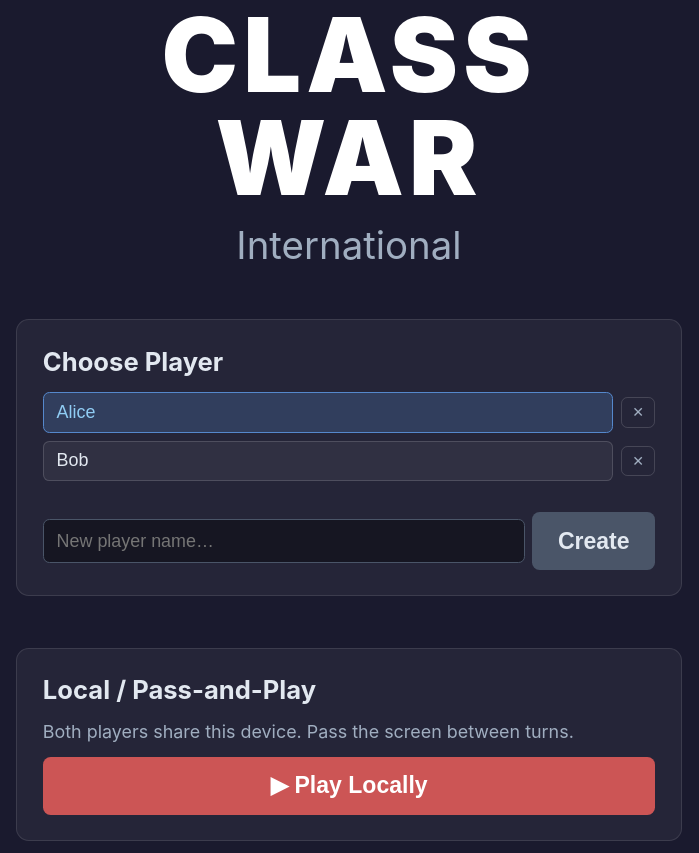
Test: SetupScreen › deleting the active player selects the next profile
Click the button named "Delete player Alice" at (638, 412), box [621,397,655,428]
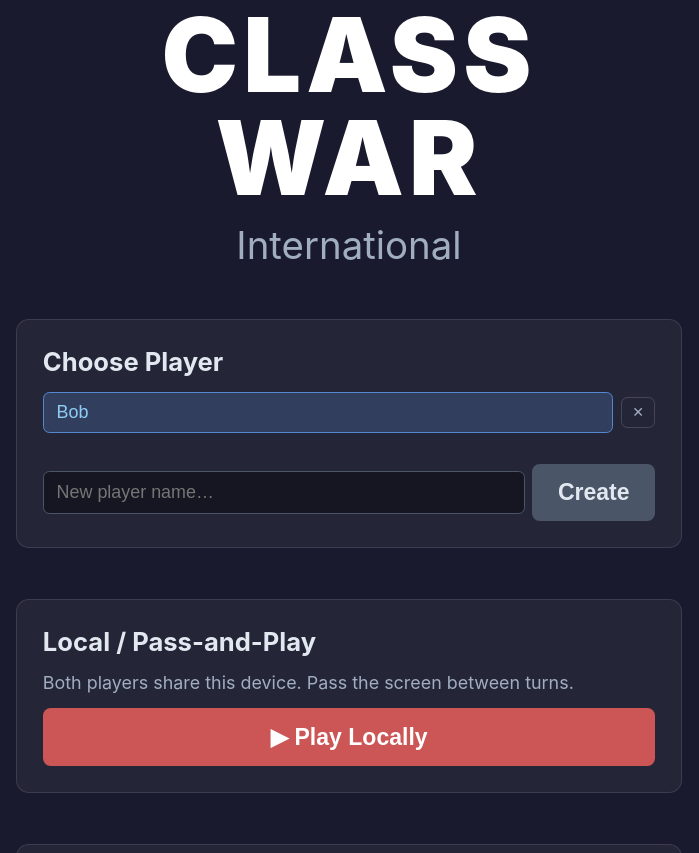
Expected: the button "Alice" is gone
